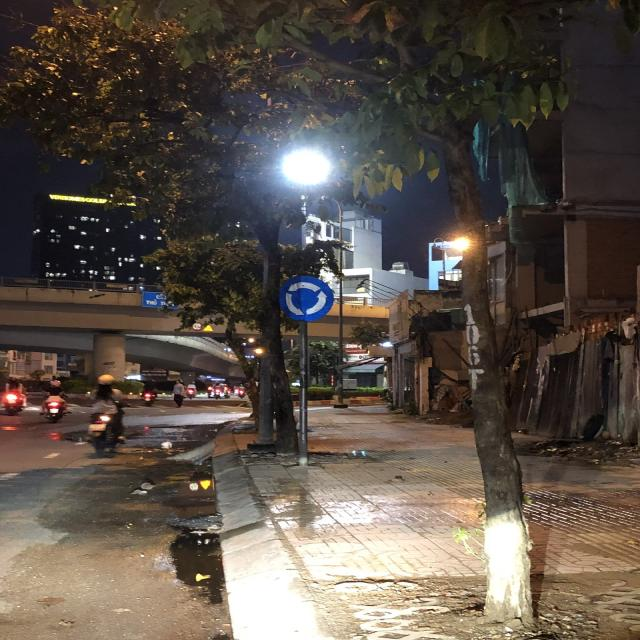Bien bao noi giao nhau chay theo vong xuyen: (276, 274, 336, 326)
